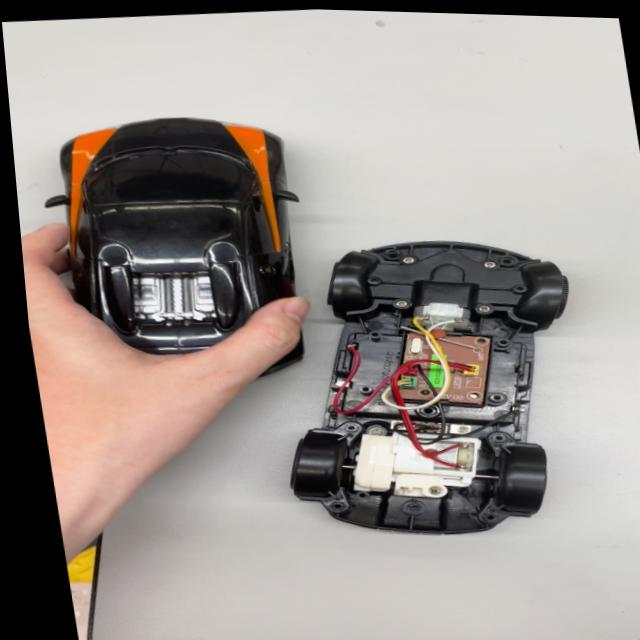Chassis: (252, 223, 635, 555)
vehicle_body: (33, 100, 332, 396)
